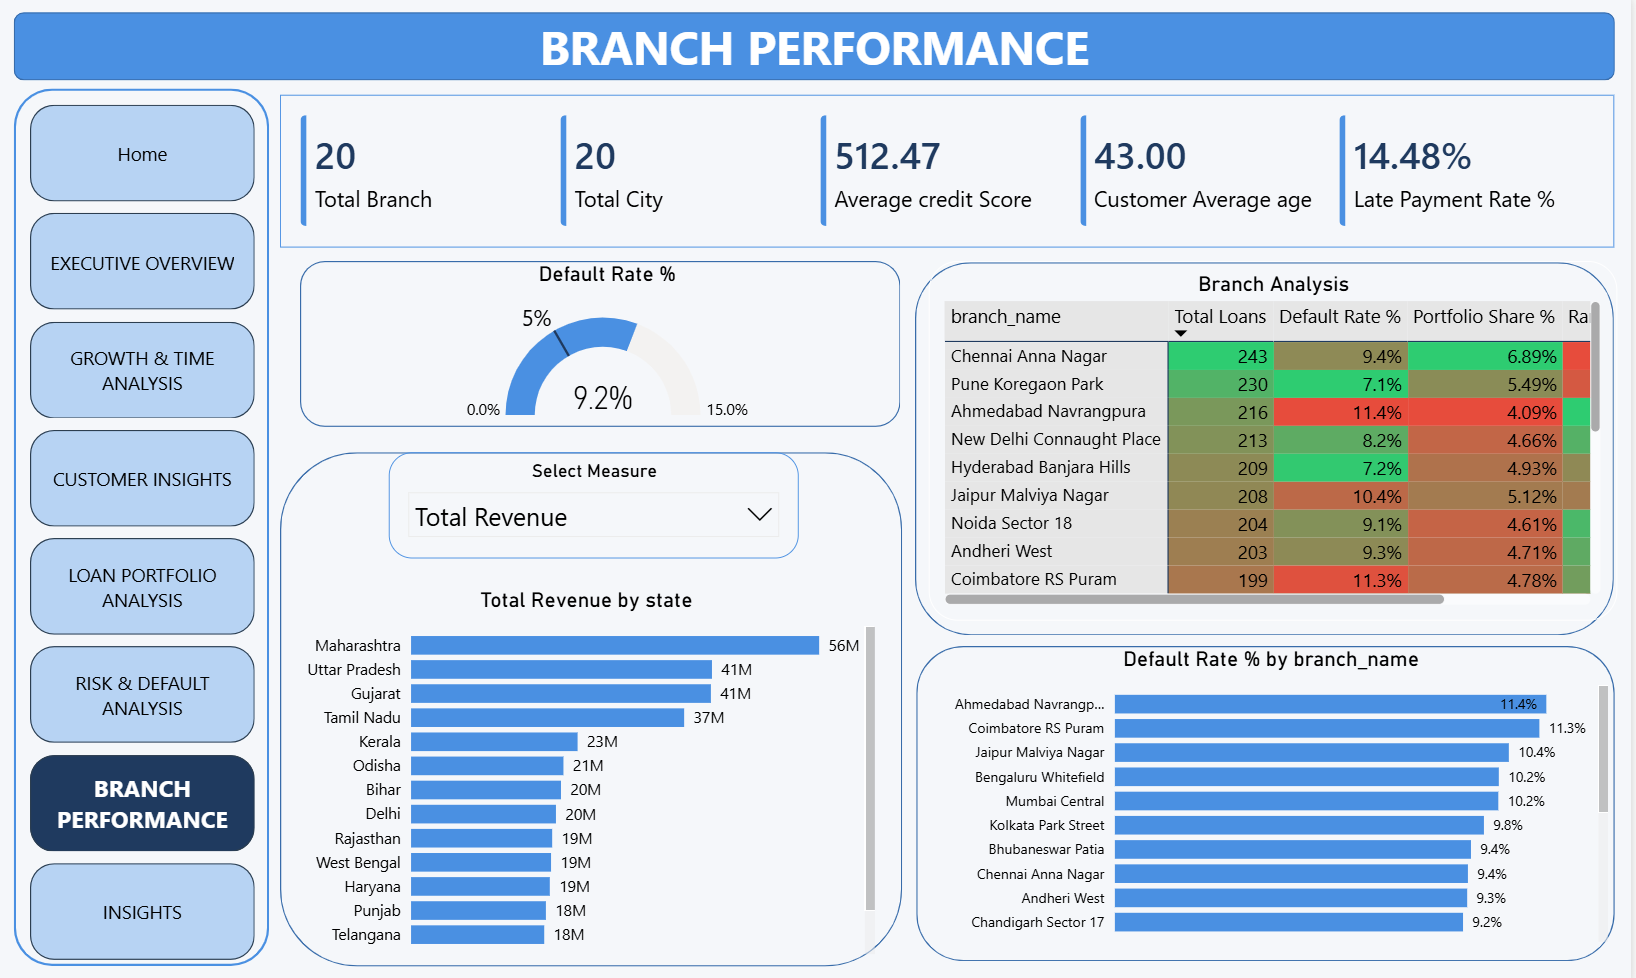

This screenshot's page, from the dashboard's own definition file:
{"tool":"powerbi","page":{"name":"BRANCH PERFORMANCE","canvas":[1400,850],"ordinal":8},"visuals":[{"type":"shape","box":[11.4,79.8,219.3,753.4],"z":0,"group":"g1"},{"type":"shape","box":[786.2,558.3,599.6,270.6],"z":0},{"type":"shape","box":[785.9,228.1,600,320.3],"z":1000},{"type":"shape","box":[240.7,391.7,534.1,441.5],"z":2000},{"type":"shape","box":[257.8,227.9,515.6,142.4],"z":3000},{"type":"shape","box":[12,13.5,1374.8,58.5],"z":4000},{"type":"cardVisual","fields":{"Data":["Count(Branch.branch_id)","Count(Branch.city)","Avg(Customers.credit_score)","Avg(Customers.age)","_Measures.Late Payment Rate %"]},"box":[240.6,84.4,1145.3,131.2],"z":5000},{"type":"clusteredBarChart","fields":{"Y":["_Measures.Total Revenue"],"Category":["Branch.region Hierarchy.region","Branch.region Hierarchy.state","Branch.region Hierarchy.city"]},"box":[251.6,507.8,504.7,320.3],"z":6000},{"type":"clusteredBarChart","title":"Default Rate %  by branch_name","fields":{"Category":["Branch.branch_name"],"Y":["_Measures.Default Rate %"]},"box":[797.6,558.3,588.2,259.2],"z":7000},{"type":"pivotTable","title":"Branch Analysis","fields":{"Values":["_Measures.Total Loans","_Measures.Default Rate %","_Measures.Branch Portfolio Share %","_Measures.Branch Rank by Amount"],"Rows":["Branch.branch_name"]},"box":[797.6,227.9,591.1,309.1],"z":8000},{"type":"gauge","title":"Default Rate %","fields":{"Y":["_Measures.Default Rate %"],"TargetValue":["_Measures.Default Target"],"MaxValue":["_Measures.Max Default Rate"]},"box":[269.2,227.9,504.2,142.4],"z":9000},{"type":"slicer","title":"Select Measure","fields":{"Values":["Branch Perfomance - Dynamic Measure.Branch Perfomance - Dynamic Measure"]},"box":[333.3,391.7,351.8,91.2],"z":10000},{"type":"group","id":"g1","title":"Group 1","box":[11.4,79.8,219.3,753.4],"z":11000},{"type":"pageNavigator","box":[25.6,94,193.7,736.3],"z":14000,"group":"g1"}]}

Visuals, with their boxes in screenshot pixels (x1, y1, x2, y2), scaled from the page's 1400x850 canvas onto the 1636x978 screenshot:
shape: {"x1": 13, "y1": 92, "x2": 270, "y2": 959}
shape: {"x1": 919, "y1": 642, "x2": 1619, "y2": 954}
shape: {"x1": 918, "y1": 262, "x2": 1620, "y2": 631}
shape: {"x1": 281, "y1": 451, "x2": 905, "y2": 959}
shape: {"x1": 301, "y1": 262, "x2": 904, "y2": 426}
shape: {"x1": 14, "y1": 16, "x2": 1621, "y2": 83}
cardVisual - Count(Branch.branch_id) x Count(Branch.city): {"x1": 281, "y1": 97, "x2": 1620, "y2": 248}
clusteredBarChart - _Measures.Total Revenue x Branch.region Hierarchy.region: {"x1": 294, "y1": 584, "x2": 884, "y2": 953}
"Default Rate %  by branch_name" clusteredBarChart: {"x1": 932, "y1": 642, "x2": 1619, "y2": 941}
"Branch Analysis" pivotTable: {"x1": 932, "y1": 262, "x2": 1623, "y2": 618}
"Default Rate %" gauge: {"x1": 315, "y1": 262, "x2": 904, "y2": 426}
"Select Measure" slicer: {"x1": 389, "y1": 451, "x2": 801, "y2": 556}
"Group 1" group: {"x1": 13, "y1": 92, "x2": 270, "y2": 959}
pageNavigator: {"x1": 30, "y1": 108, "x2": 256, "y2": 955}
